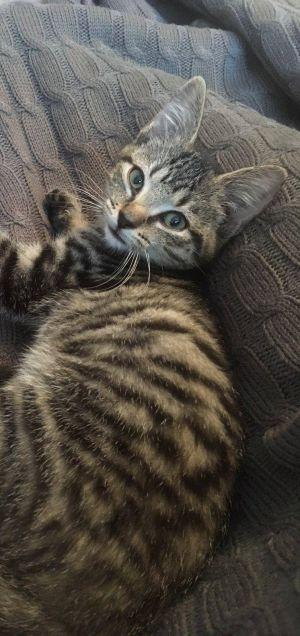bengal: (94, 66, 293, 278)
